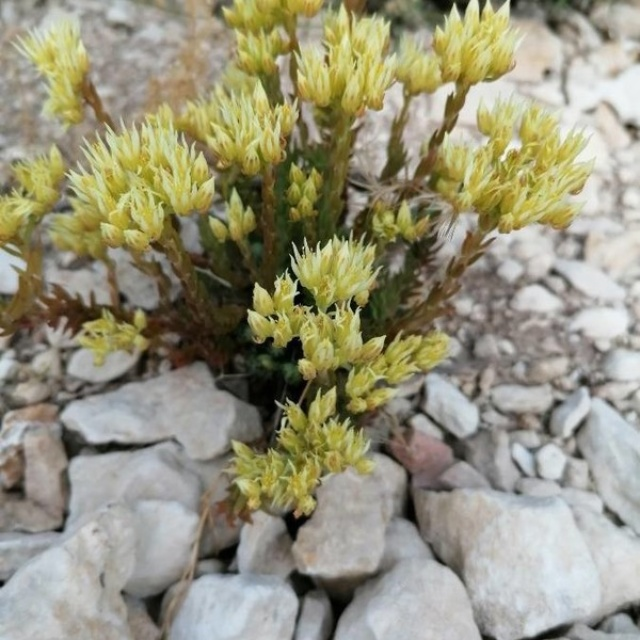obstacle: (112, 27, 591, 482)
